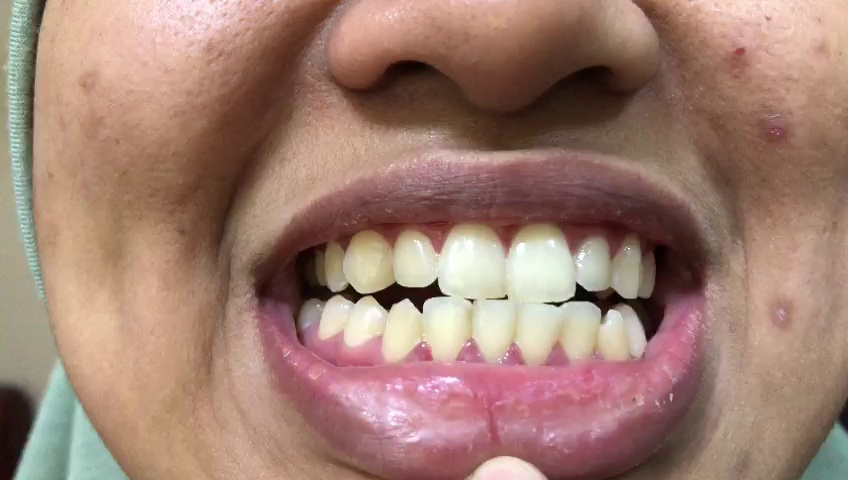1st Molar: (296, 297, 322, 333)
1st Premolar: (344, 295, 384, 352), (616, 308, 648, 357), (324, 239, 344, 293), (639, 246, 656, 299)
2nd Premolar: (319, 295, 351, 343)
Canine: (341, 229, 393, 294), (384, 296, 420, 362), (611, 234, 641, 299), (599, 308, 632, 366)
Central Incisor: (437, 219, 507, 301), (506, 220, 575, 302), (515, 298, 563, 367), (473, 300, 517, 367)
Lateral Incisor: (421, 294, 473, 365), (562, 300, 602, 365), (393, 228, 437, 287), (571, 233, 613, 293)
